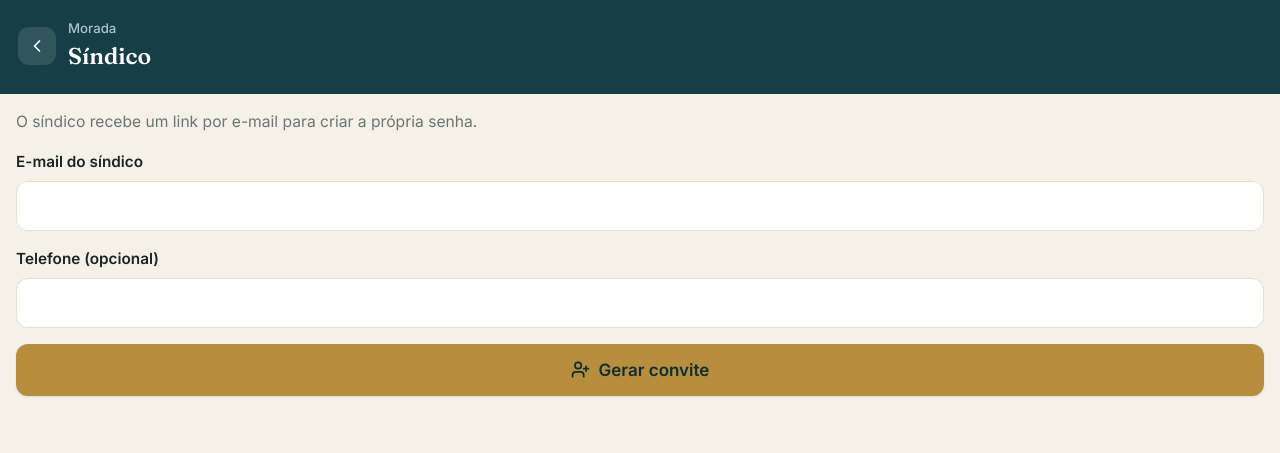
SindicoScreen › invites with e-mail and optional phone and shows the share card
Step 1. Type "Carla@Exemplo.com" into the field labelled "E-mail do síndico" → (640, 206), box [16,181,1264,231]
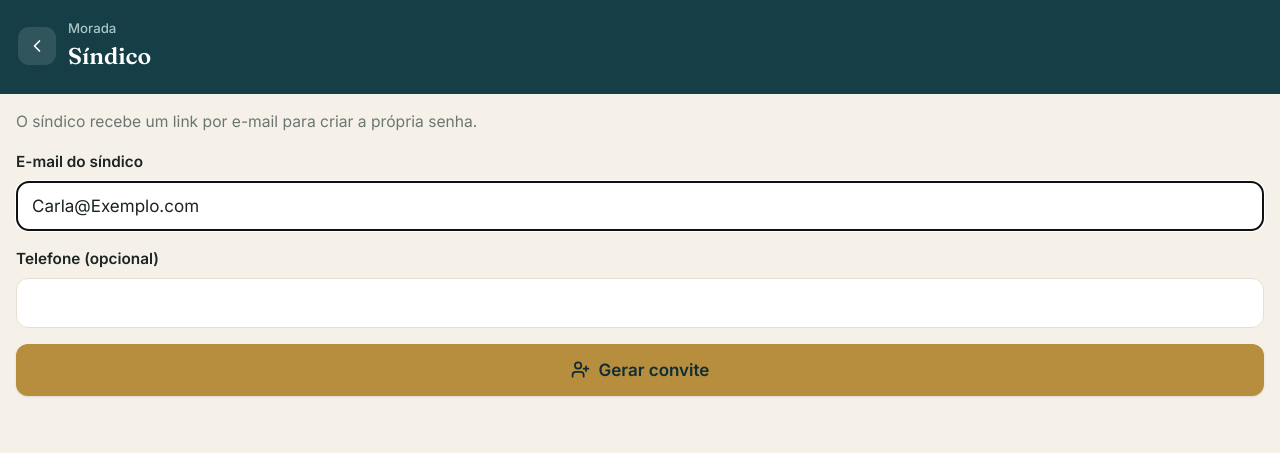
Step 2. Type "21999990000" into the field labelled "Telefone (opcional)" → (640, 303), box [16,278,1264,328]
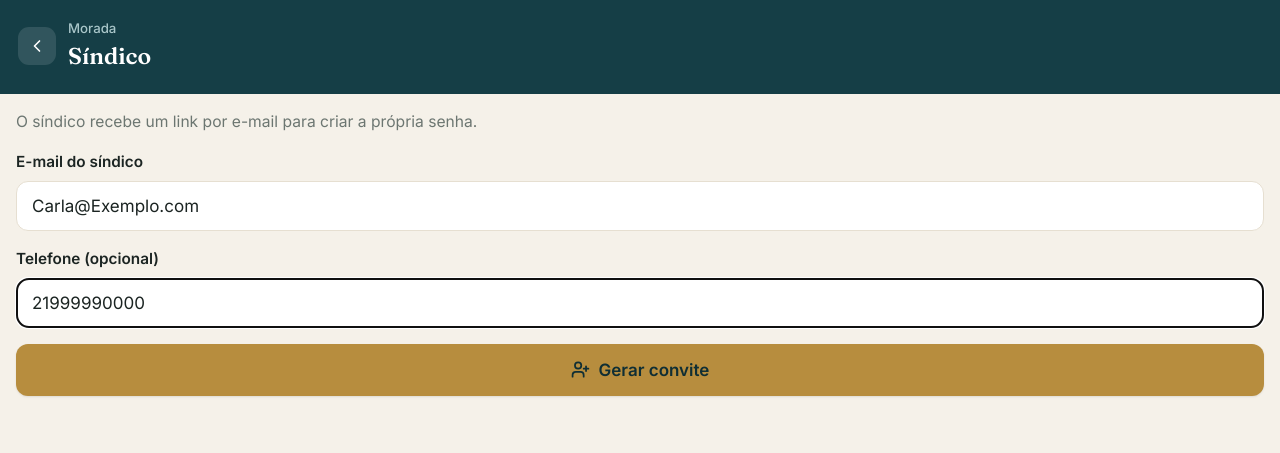
Step 3. Click the button "Gerar convite" → (640, 370), box [16,344,1264,396]
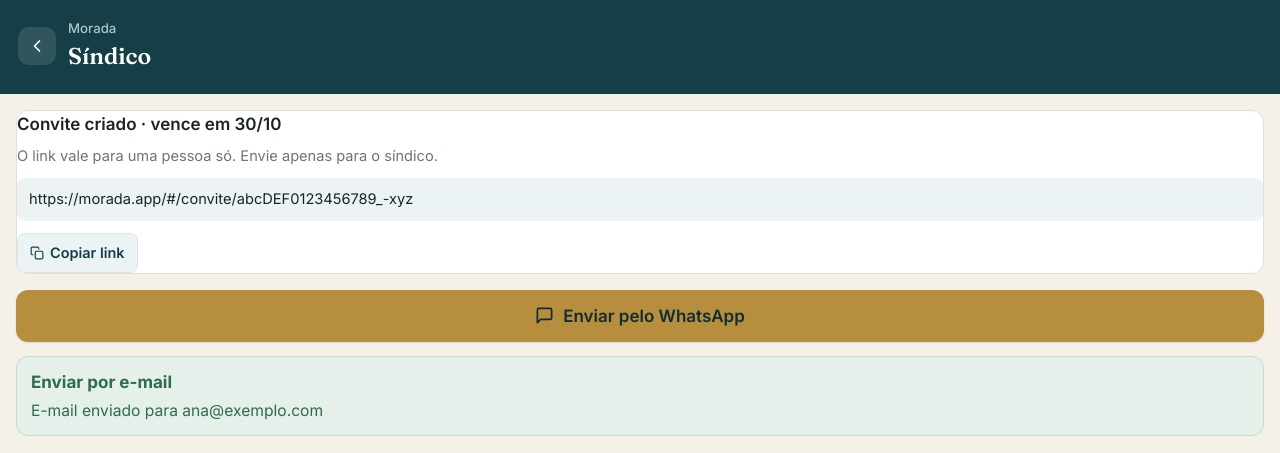
Expected: the text with test id "invite-link" reads "https://morada.app/#/convite/abcDEF0123456789_-xyz", [29,190,413,208]
